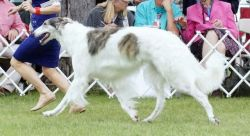borzoi: (33, 15, 236, 127)
